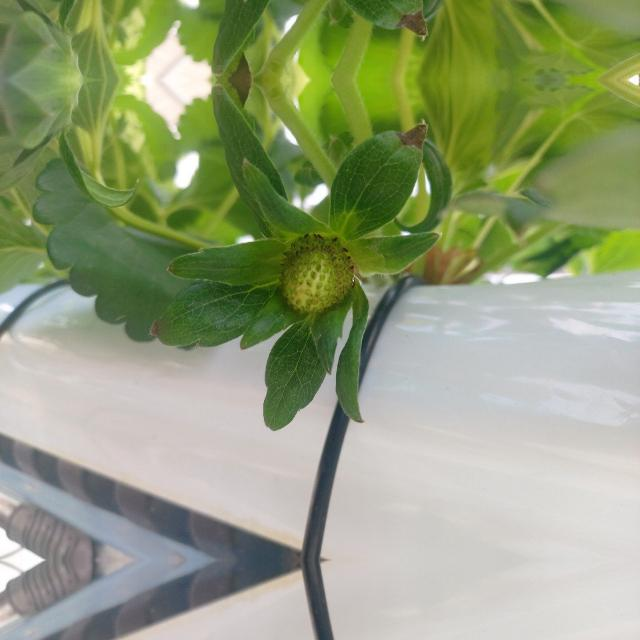Health_25: (280, 232, 354, 314)
